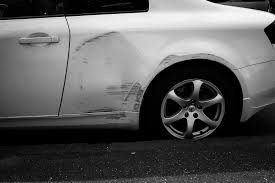Dent: (63, 31, 139, 95)
Scratch: (67, 28, 126, 59), (105, 80, 148, 109), (155, 55, 244, 66), (81, 109, 135, 125)
